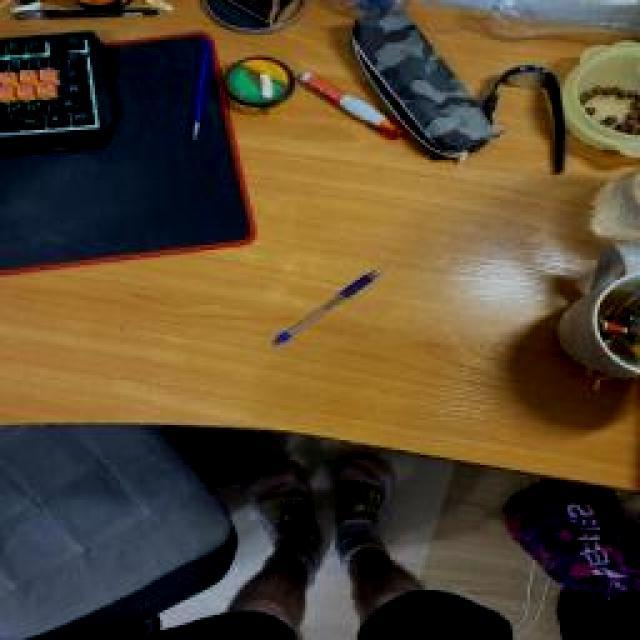pen: (270, 265, 385, 348)
